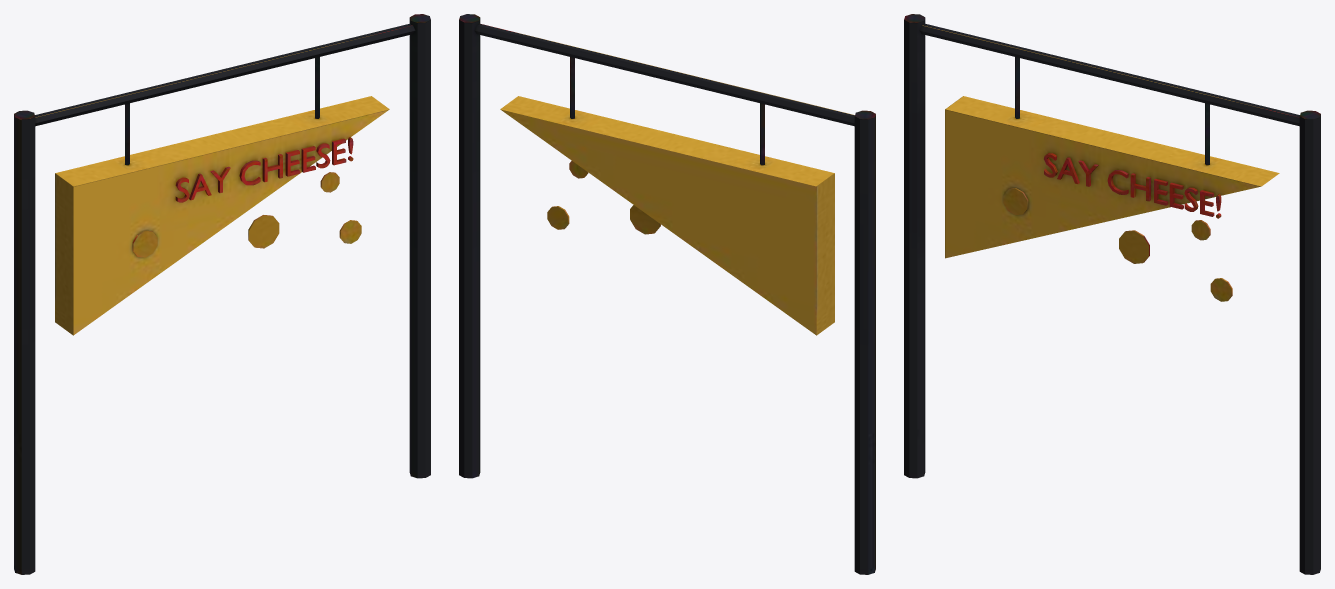
The model's file is cartel_queso.glb.
3 renders of one model, left to right at view 1: azimuth 30°, elevation 25°; view 2: azimuth 150°, elevation 25°; view 3: azimuth 330°, elevation 25°, orthographic.
Visible parts, largest first — view 1: cartel_queso; view 2: cartel_queso; view 3: cartel_queso.
Boxes of the visible parts, box(x1,y1,x2,y2) form: cartel_queso: box(14, 14, 430, 574); cartel_queso: box(459, 14, 875, 574); cartel_queso: box(904, 14, 1320, 574).
Size of the model in its own units: 2.62 by 2.75 by 0.23.
1 material, 1 textured.
